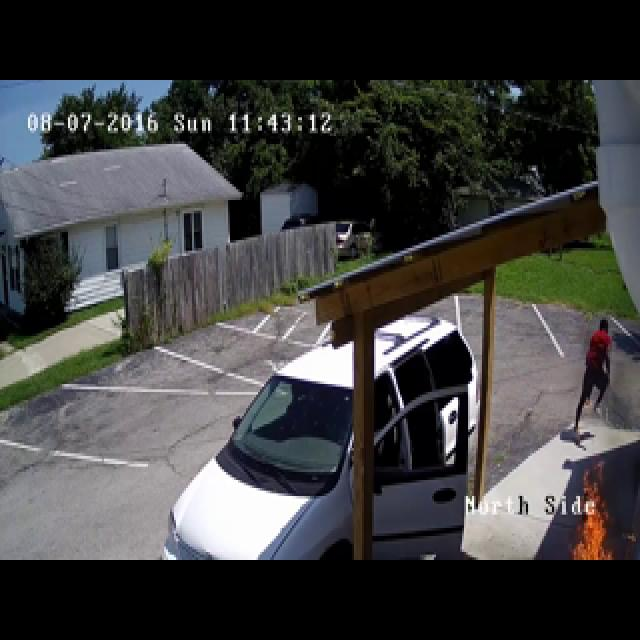arson: (401, 151, 640, 520)
